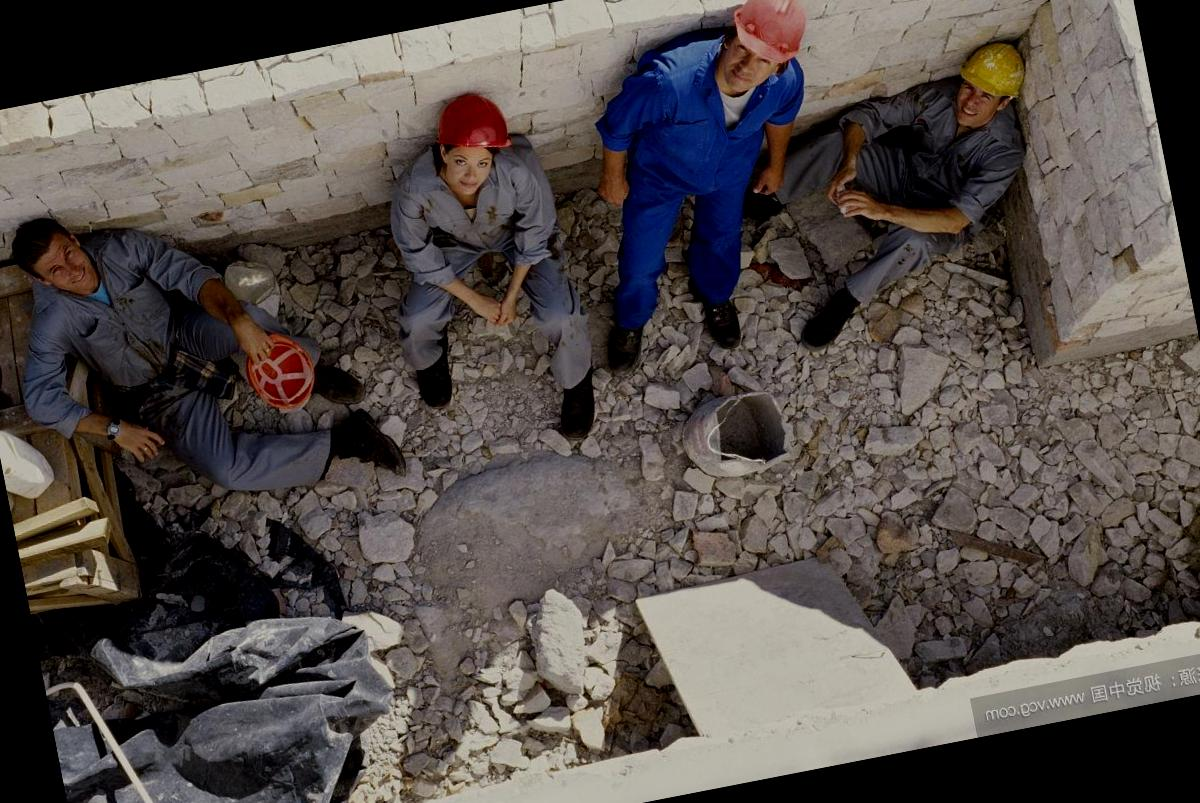helmet: (419, 82, 517, 170), (734, 0, 815, 60), (958, 40, 1032, 104)
no_vest: (619, 79, 798, 238), (398, 157, 552, 320), (50, 246, 196, 413)
person: (0, 157, 373, 530), (540, 0, 867, 385), (354, 78, 614, 472), (794, 31, 1066, 277)
